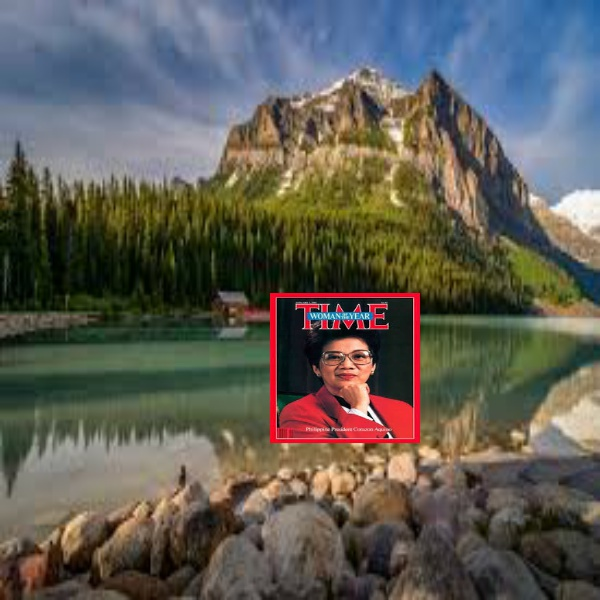time_cover: (270, 280, 425, 448)
